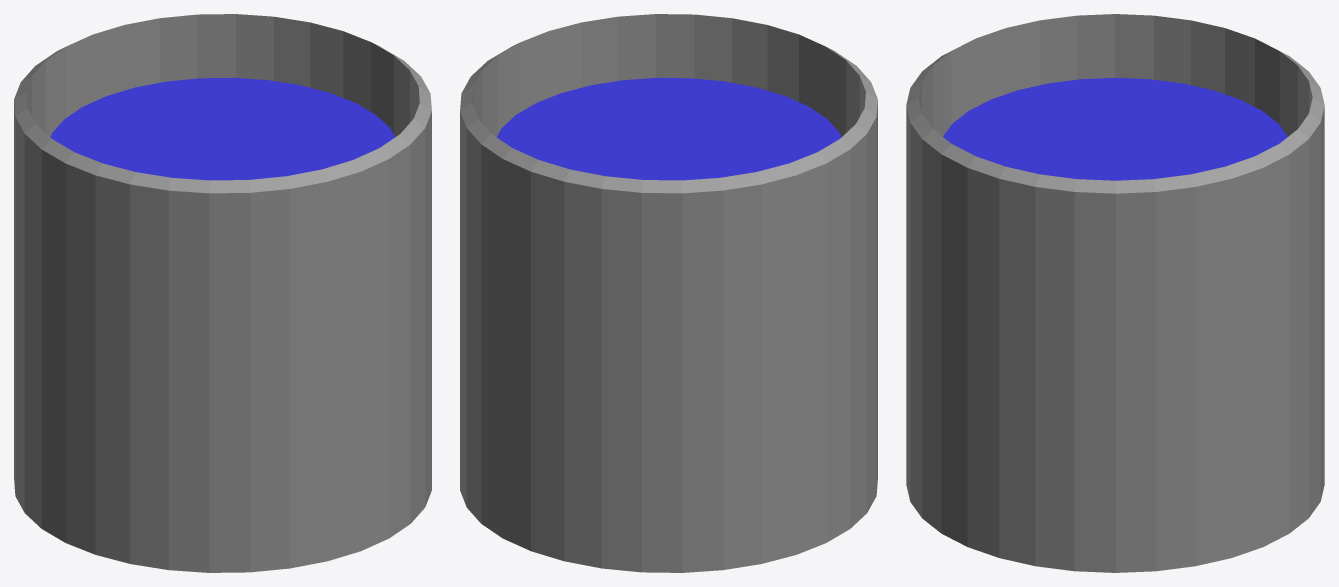
Rendered from BucketBlue.fbx.
3 views of the same model, side by side, from view 1: azimuth 30°, elevation 25°; view 2: azimuth 150°, elevation 25°; view 3: azimuth 270°, elevation 25° (orthographic).
Visible parts, largest first — view 1: BucketBlue, BucketBluePaint; view 2: BucketBlue, BucketBluePaint; view 3: BucketBlue, BucketBluePaint.
Boxes of the visible parts, x1,y1,x2,y2 form: BucketBlue: (14,14,431,572); BucketBluePaint: (50,77,394,180); BucketBlue: (460,14,877,572); BucketBluePaint: (497,77,841,180); BucketBlue: (906,14,1324,572); BucketBluePaint: (943,77,1287,180).
Bounding box in the file's own units: 37.32 × 37.32 × 38.09.
